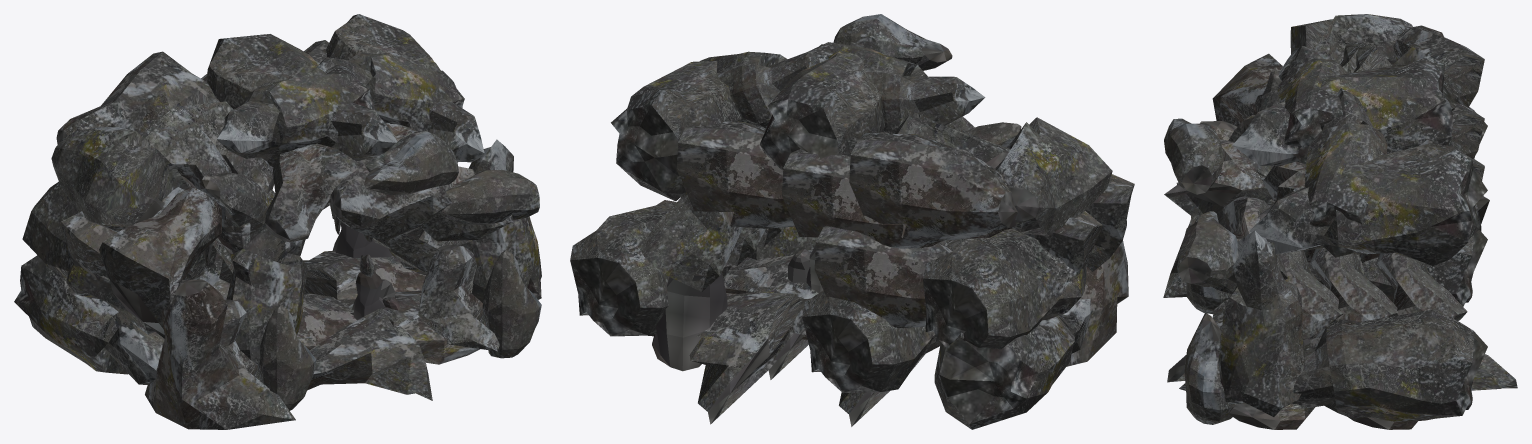
The model's file is cueva.glb.
The picture shows the model from 3 angles, left to right: view 1: azimuth 30°, elevation 25°; view 2: azimuth 150°, elevation 25°; view 3: azimuth 270°, elevation 25°; orthographic projection. The views are drawn at different scales.
Visible parts, largest first — view 1: polySurface8.001; view 2: polySurface8.001; view 3: polySurface8.001.
Boxes of the visible parts, left/top/right/bottom form: polySurface8.001: left=14, top=14, right=541, bottom=429; polySurface8.001: left=570, top=14, right=1134, bottom=429; polySurface8.001: left=1163, top=14, right=1517, bottom=429.
Size of the model in its own units: 2 by 1.28 by 1.39.
Materials: 1 (1 with a texture image).
